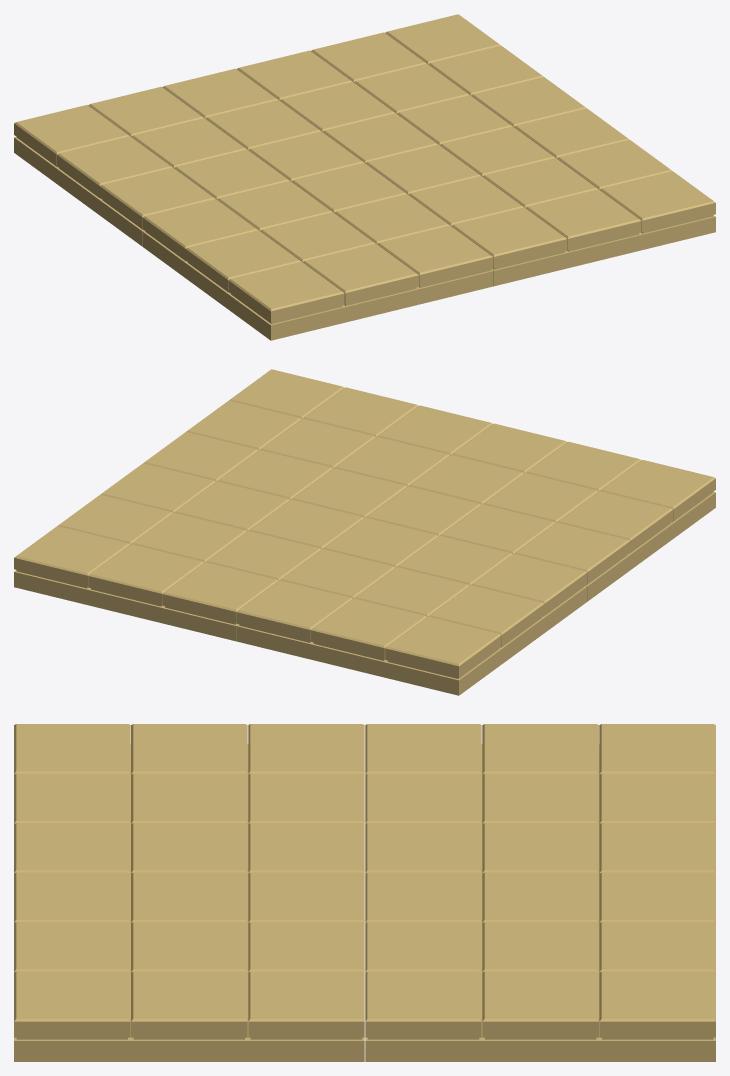
File: floor.fbx
3 views of the same model, one above another, from view 1: azimuth 30°, elevation 25°; view 2: azimuth 150°, elevation 25°; view 3: azimuth 270°, elevation 25° (orthographic). The views are drawn at different scales.
Parts seen in each view (by area): view 1: part.002; view 2: part.002; view 3: part.002.
Boxes of the visible parts, box(x1,y1,x2,y2) form: part.002: box(14, 14, 715, 340); part.002: box(14, 369, 715, 695); part.002: box(14, 724, 715, 1061).
Bounding box in the file's own units: 9592 × 636 × 9592.
